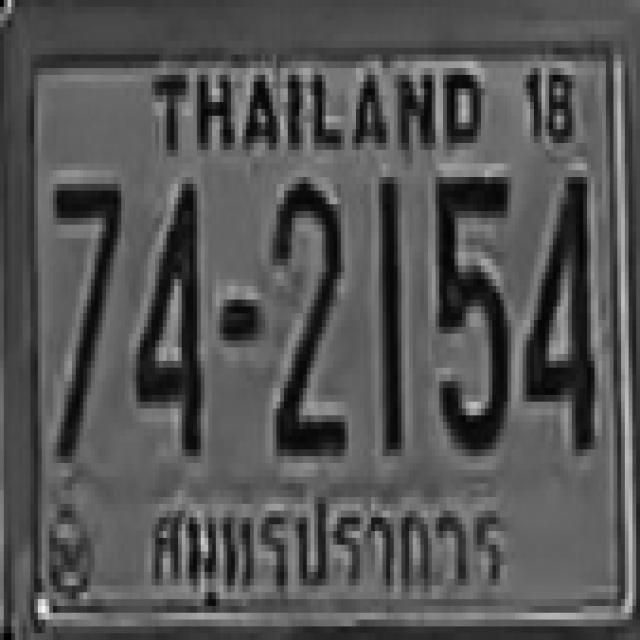1: (375, 174, 398, 452)
2: (270, 174, 342, 452)
4: (522, 167, 590, 446), (132, 177, 200, 449)
5: (432, 170, 507, 450)
7: (49, 180, 118, 453)
SamutPrakan: (134, 473, 516, 630)
